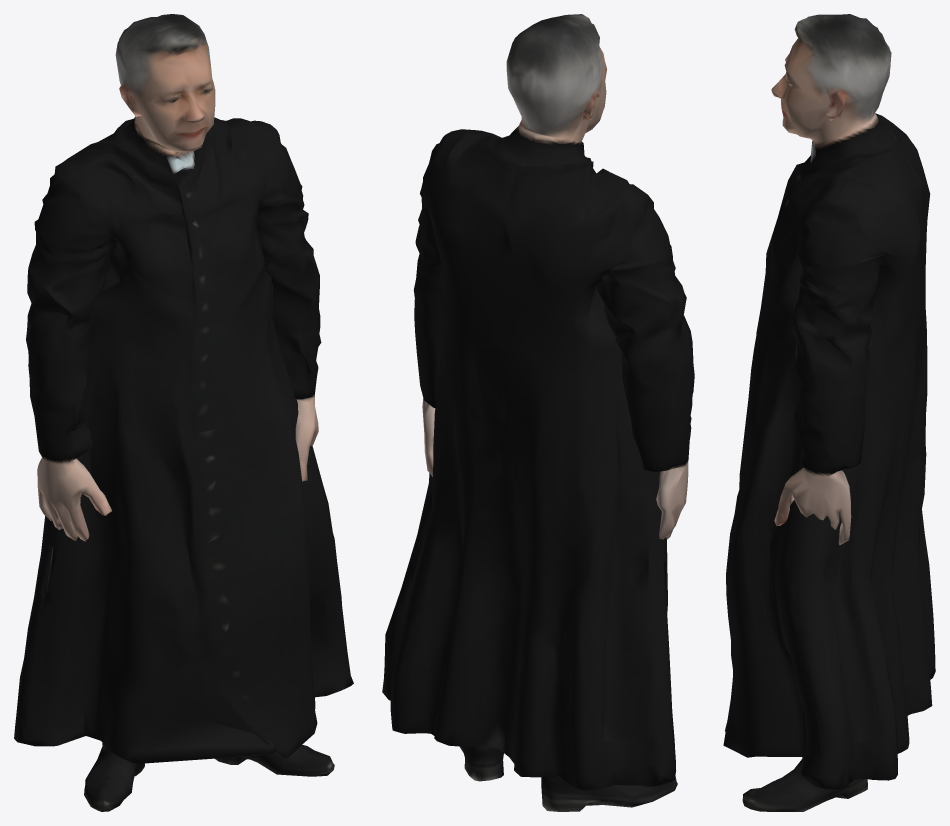
The model's file is pendeta_idle.glb.
3 renders of one model, left to right at view 1: azimuth 30°, elevation 25°; view 2: azimuth 150°, elevation 25°; view 3: azimuth 270°, elevation 25°, orthographic. The views are drawn at different scales.
Visible parts, largest first — view 1: tripo_node_8881ad83; view 2: tripo_node_8881ad83; view 3: tripo_node_8881ad83.
Part boxes in pixels (bbox=[...]): tripo_node_8881ad83: bbox=[14, 14, 353, 811]; tripo_node_8881ad83: bbox=[382, 14, 694, 811]; tripo_node_8881ad83: bbox=[723, 14, 935, 811].
Bounding box in the file's own units: 39.26 × 91.96 × 23.79.
1 material, 1 textured.
